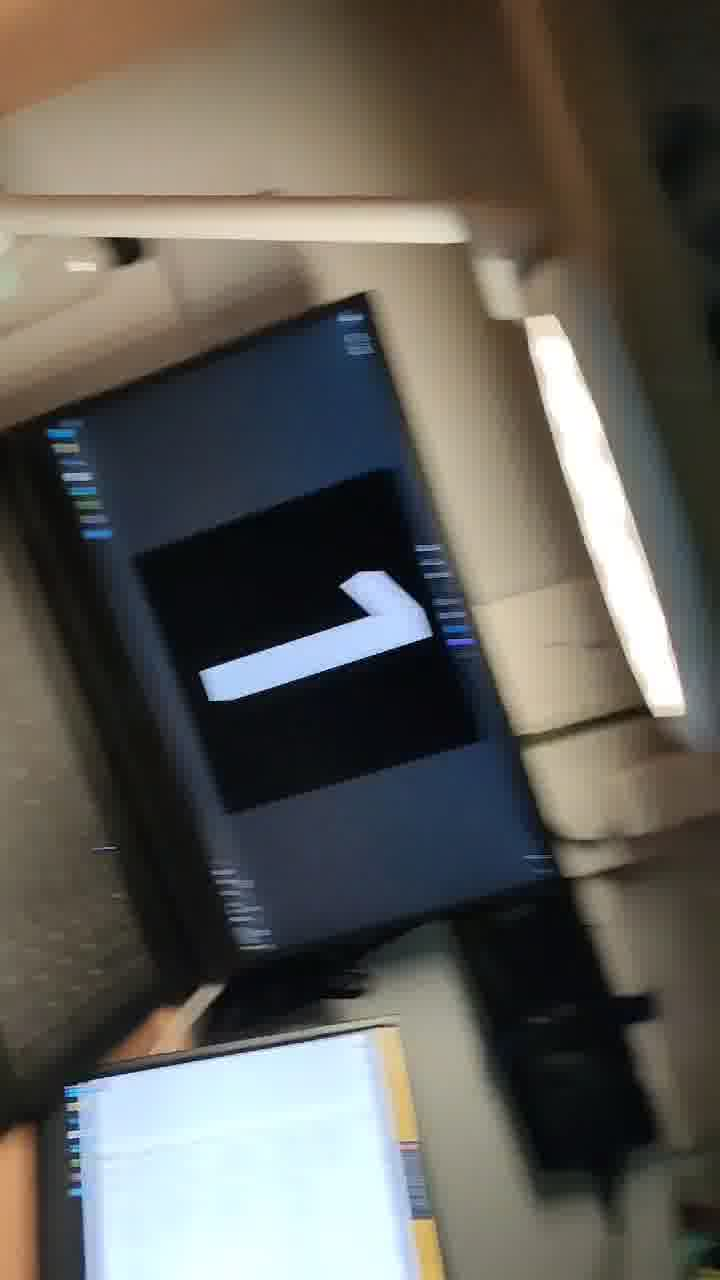one: (158, 515, 560, 792)
